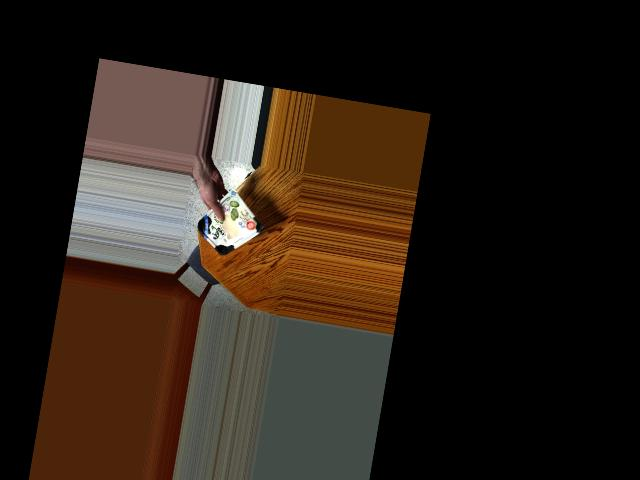cheese: (197, 204, 259, 251)
